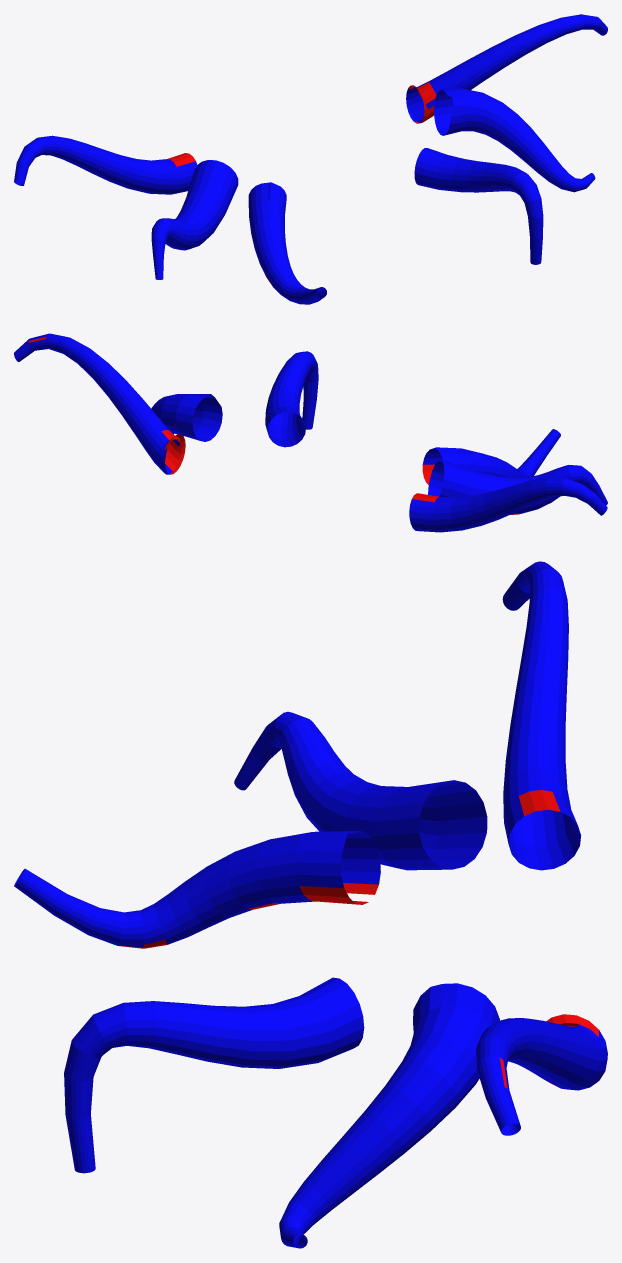
The model's file is tentacles.obj.
3 renders of one model, top to bottom at view 1: azimuth 30°, elevation 25°; view 2: azimuth 150°, elevation 25°; view 3: azimuth 270°, elevation 25°, orthographic. The views are drawn at different scales.
Visible parts, largest first — view 1: polySurface22 polySurface2 animal:Mesh, polySurface2 animal:Mesh polySurface17, polySurface2 animal:Mesh polySurface18, polySurface2 animal:Mesh polySurface20, polySurface2 animal:Mesh polySurface21, polySurface2 animal:Mesh polySurface19; view 2: polySurface2 animal:Mesh polySurface17, polySurface2 animal:Mesh polySurface18, polySurface2 animal:Mesh polySurface20, polySurface2 animal:Mesh polySurface21, polySurface22 polySurface2 animal:Mesh, polySurface2 animal:Mesh polySurface19; view 3: polySurface2 animal:Mesh polySurface20, polySurface2 animal:Mesh polySurface19, polySurface22 polySurface2 animal:Mesh, polySurface2 animal:Mesh polySurface21, polySurface2 animal:Mesh polySurface17, polySurface2 animal:Mesh polySurface18.
Boxes of the visible parts, x1,y1,x2,y2 form: polySurface22 polySurface2 animal:Mesh: (434,88,595,192); polySurface2 animal:Mesh polySurface17: (14,135,197,194); polySurface2 animal:Mesh polySurface18: (406,14,607,123); polySurface2 animal:Mesh polySurface20: (414,148,543,264); polySurface2 animal:Mesh polySurface21: (151,160,238,279); polySurface2 animal:Mesh polySurface19: (248,182,326,304); polySurface2 animal:Mesh polySurface17: (409,477,607,532); polySurface2 animal:Mesh polySurface18: (14,333,185,474); polySurface2 animal:Mesh polySurface20: (265,351,318,447); polySurface2 animal:Mesh polySurface21: (428,460,607,514); polySurface22 polySurface2 animal:Mesh: (151,394,222,441); polySurface2 animal:Mesh polySurface19: (422,429,560,484); polySurface2 animal:Mesh polySurface20: (64,977,364,1173); polySurface2 animal:Mesh polySurface19: (14,831,380,948); polySurface22 polySurface2 animal:Mesh: (279,983,499,1248); polySurface2 animal:Mesh polySurface21: (234,711,487,870); polySurface2 animal:Mesh polySurface17: (502,561,581,870); polySurface2 animal:Mesh polySurface18: (476,1014,607,1135).
Size of the model in its own units: 18.39 by 4 by 8.31.
